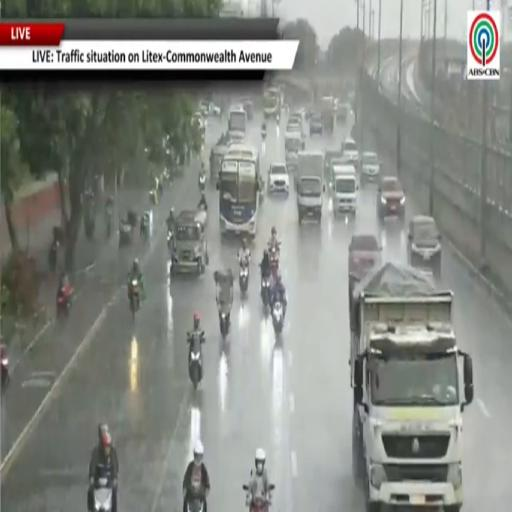bus: (218, 144, 260, 237), (228, 105, 247, 142), (264, 87, 281, 118)
car: (349, 234, 381, 311), (408, 215, 441, 277), (377, 176, 405, 220), (268, 163, 290, 195), (360, 152, 380, 184), (342, 138, 359, 165), (286, 121, 305, 140), (200, 101, 221, 118), (309, 114, 323, 136), (242, 99, 253, 120)
jeepney: (171, 210, 208, 275), (285, 133, 303, 171)
motorcycle: (188, 332, 204, 389), (93, 478, 112, 511), (271, 301, 284, 334), (57, 287, 71, 317), (0, 344, 9, 390), (129, 279, 139, 319), (48, 240, 59, 271), (269, 246, 279, 276), (250, 496, 270, 511), (239, 262, 248, 295), (261, 277, 270, 309), (220, 313, 229, 338), (141, 215, 149, 242), (188, 498, 203, 511), (106, 208, 112, 239), (167, 230, 173, 255), (149, 189, 157, 205), (199, 173, 206, 191), (261, 128, 266, 140)
truck: (350, 263, 473, 511), (295, 151, 325, 223), (320, 96, 335, 134), (264, 87, 281, 119)
